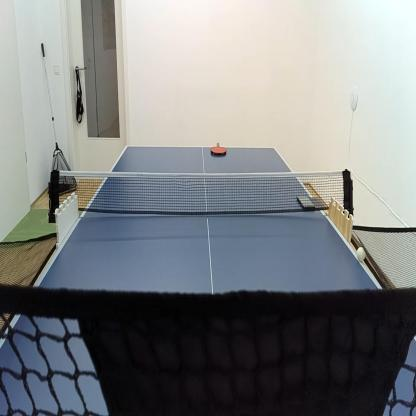Ball: (358, 247, 365, 261)
